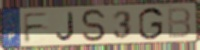3: (111, 9, 133, 40)
B: (166, 6, 192, 40)
F: (22, 11, 51, 45)
G: (138, 6, 165, 41)
J: (55, 11, 76, 42)
S: (79, 8, 108, 43)
